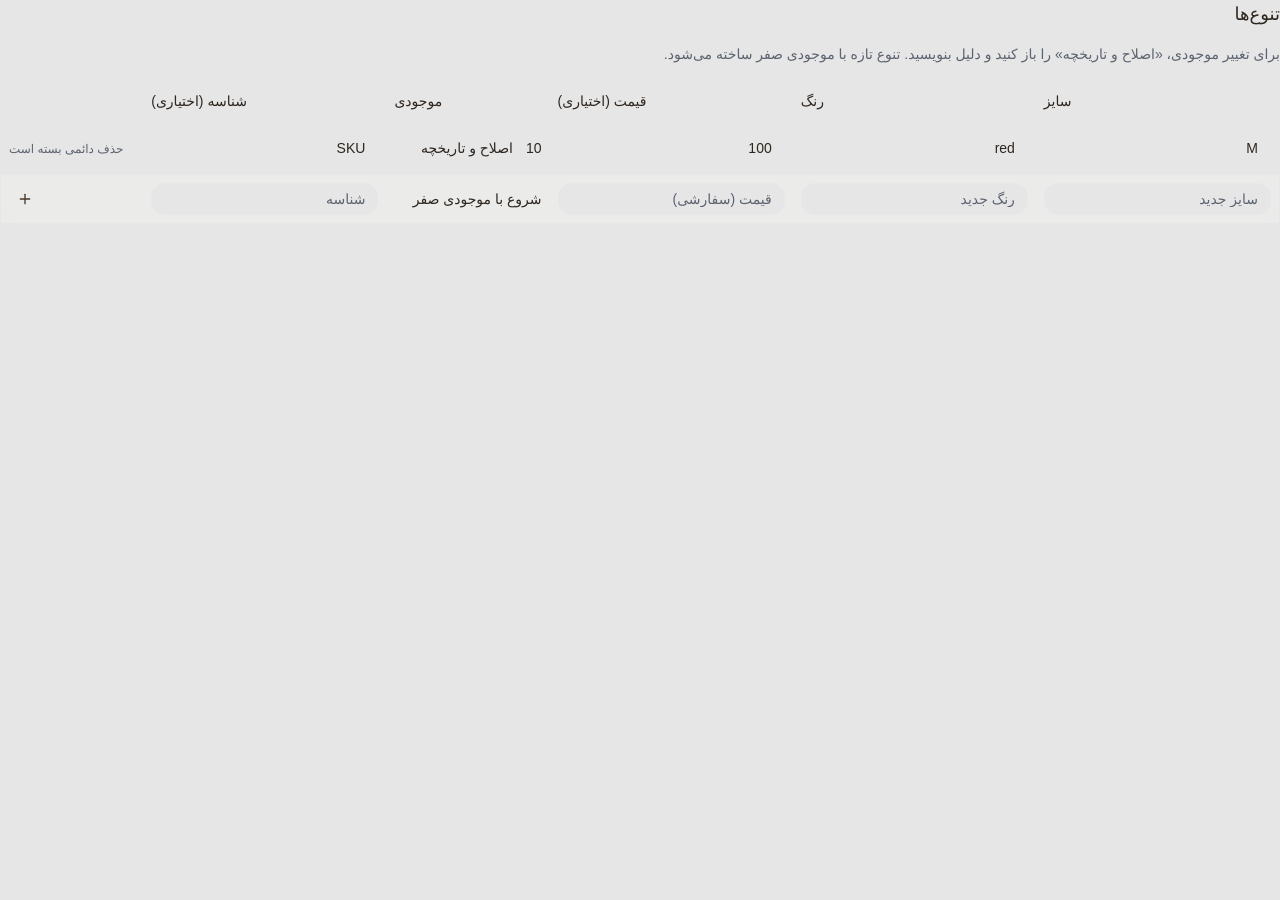
Scenario: locks identity edits and deletion while an adjustment snapshot is open
Click the button "اصلاح و تاریخچه" at [467, 148], box [408,130,526,166]
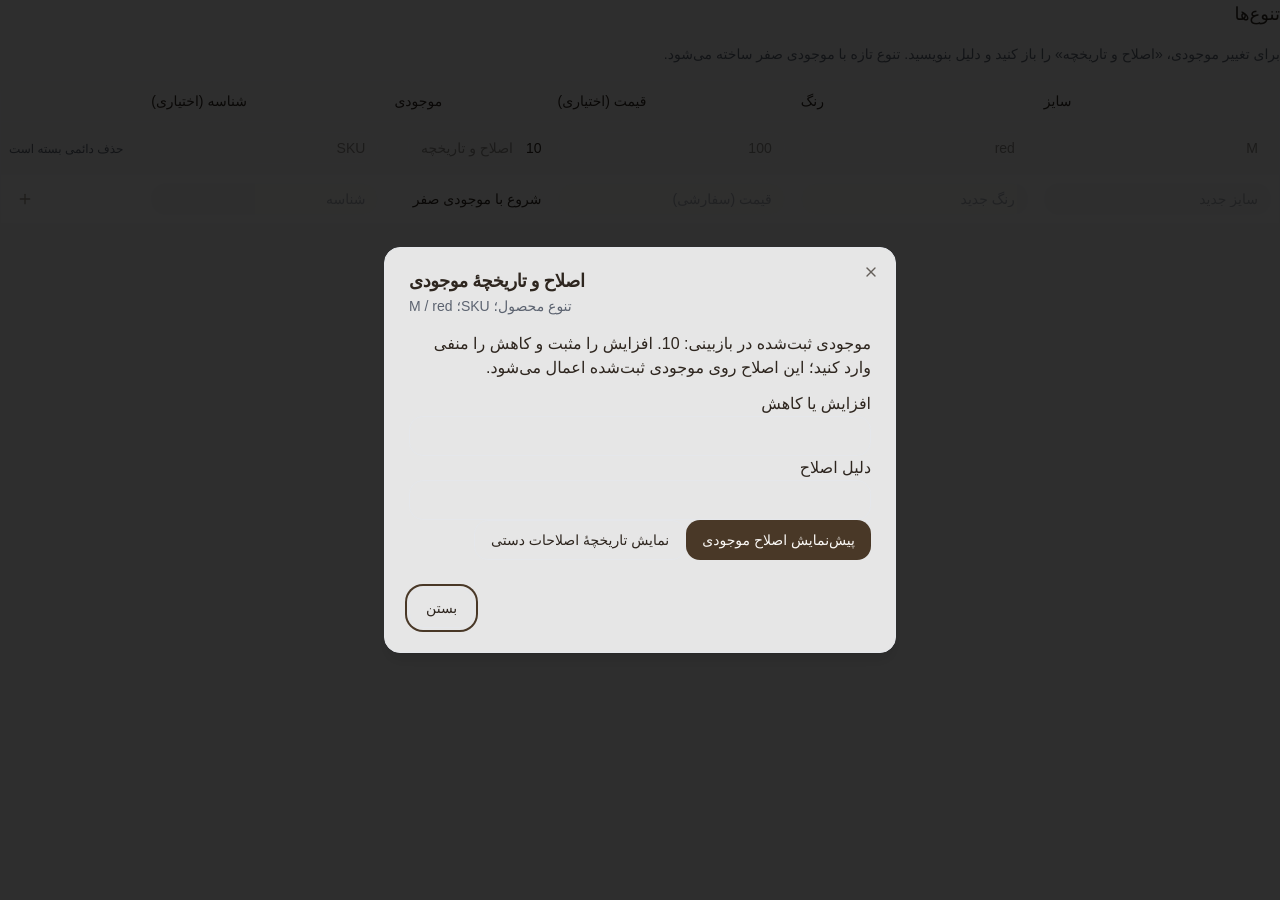
Click the button "بستن" at [442, 608], box [409,588,474,628]
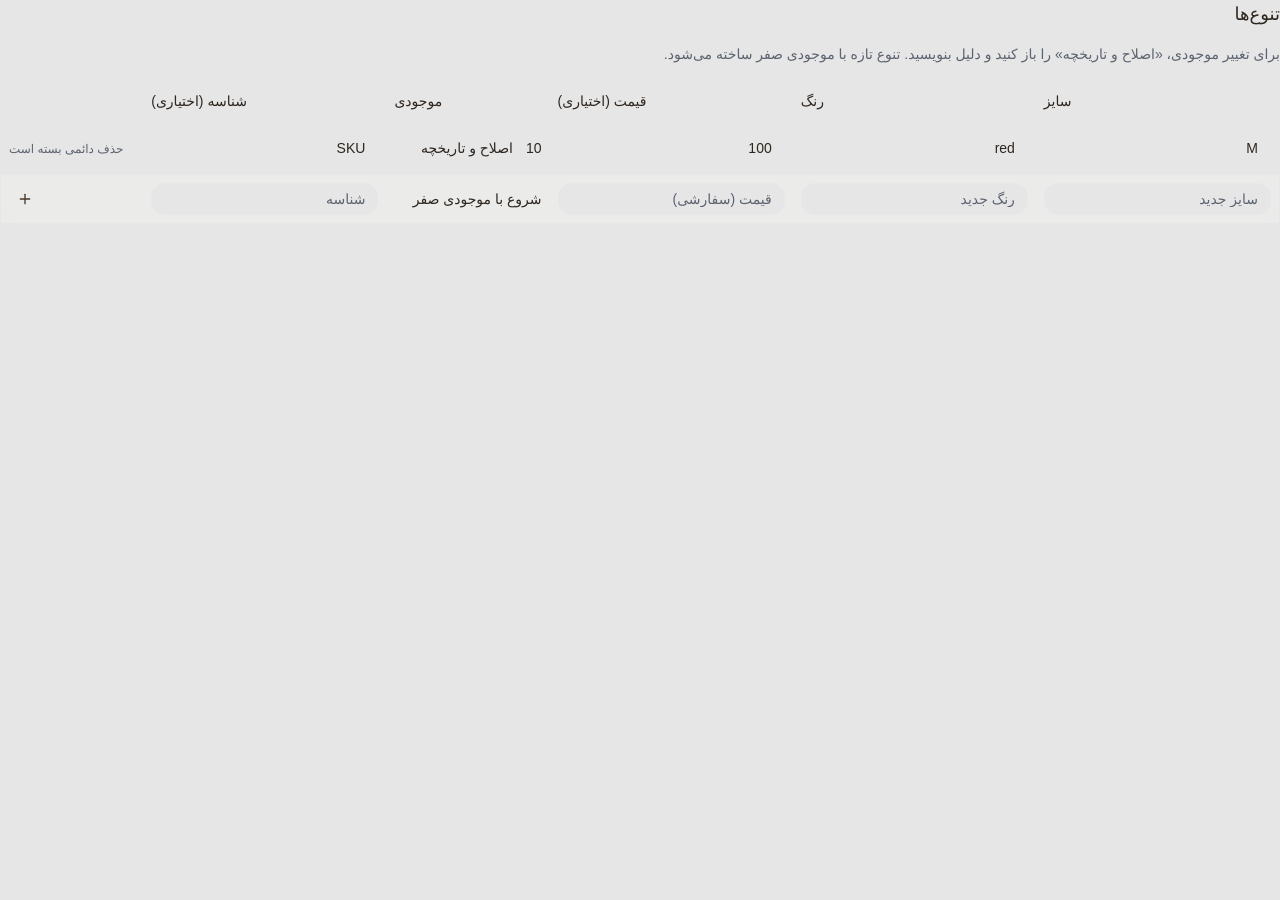
Now the 3rd field showing "M" is enabled, box [1044,132,1271,164]
